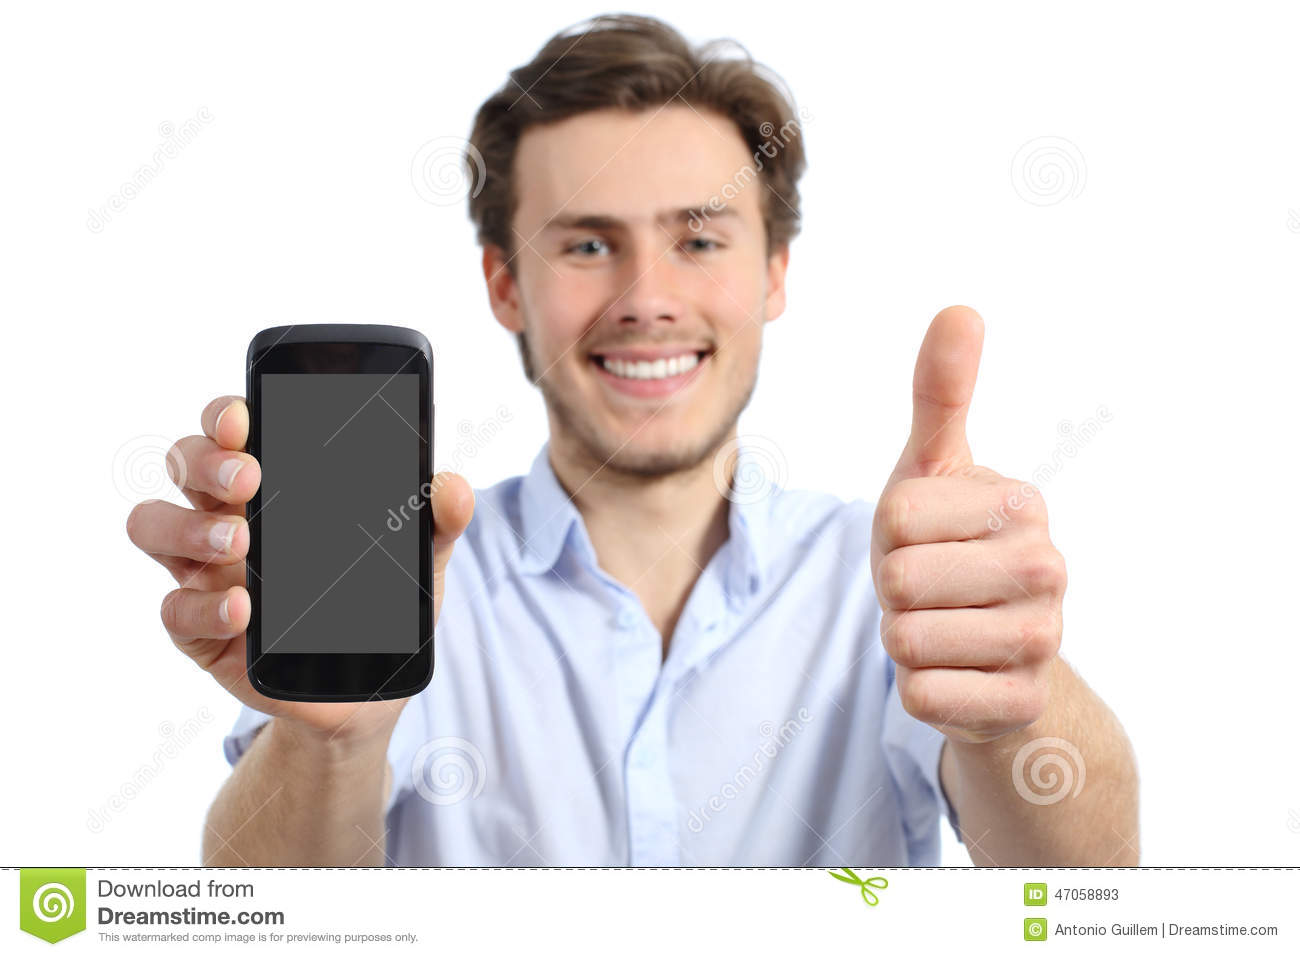smartphone: (243, 321, 435, 703)
